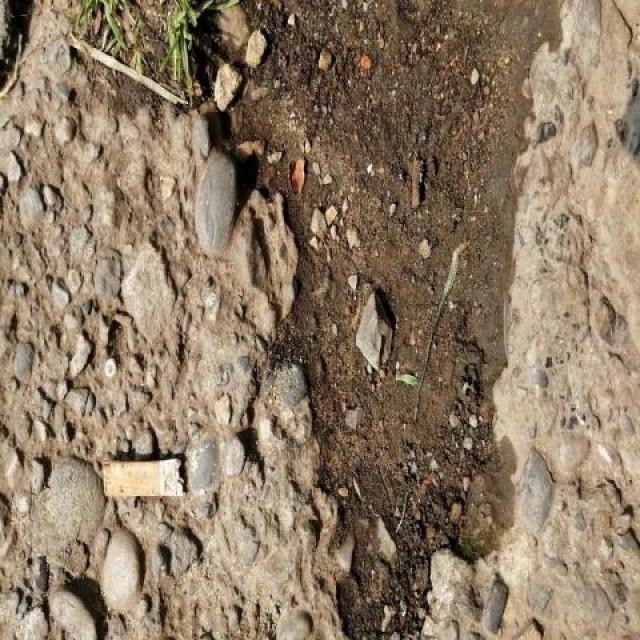non-organic waste: (100, 450, 188, 502)
